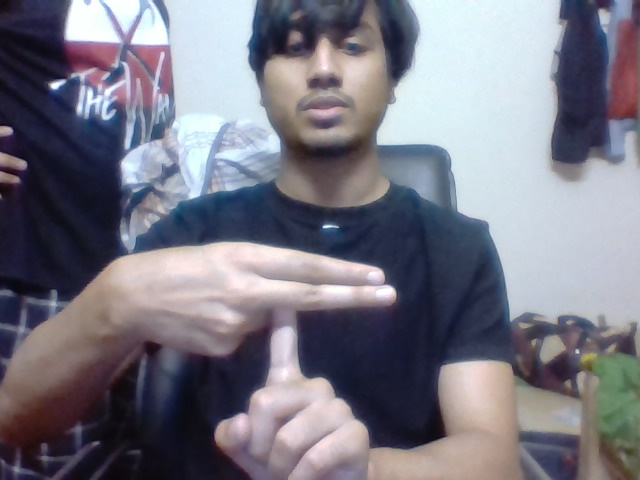F: (262, 241, 400, 373)
